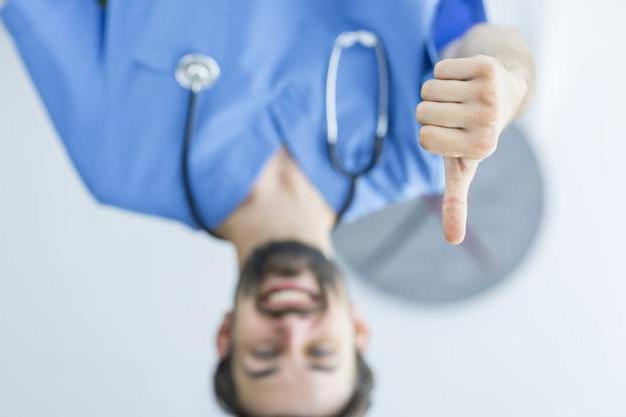thumbsdown: (415, 55, 507, 245)
